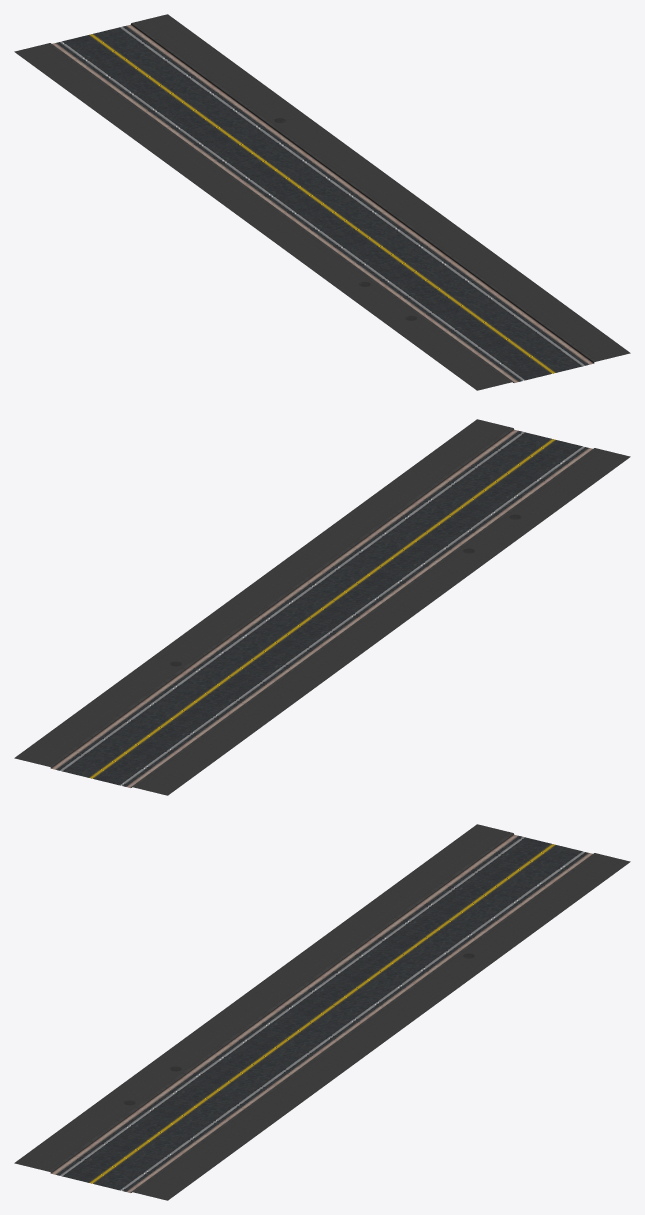
File: or_city_road_US_cont_marking.fbx
3 views of the same model, one above another, from view 1: azimuth 30°, elevation 25°; view 2: azimuth 150°, elevation 25°; view 3: azimuth 330°, elevation 25° (orthographic).
Parts seen in each view (by area): view 1: obj0; view 2: obj0; view 3: obj0.
Part boxes in pixels (x1=…): obj0: x1=14, y1=14, x2=630, y2=390; obj0: x1=14, y1=419, x2=630, y2=795; obj0: x1=14, y1=824, x2=630, y2=1200.
Bounding box in the file's own units: 29.21 × 0.254 × 152.
